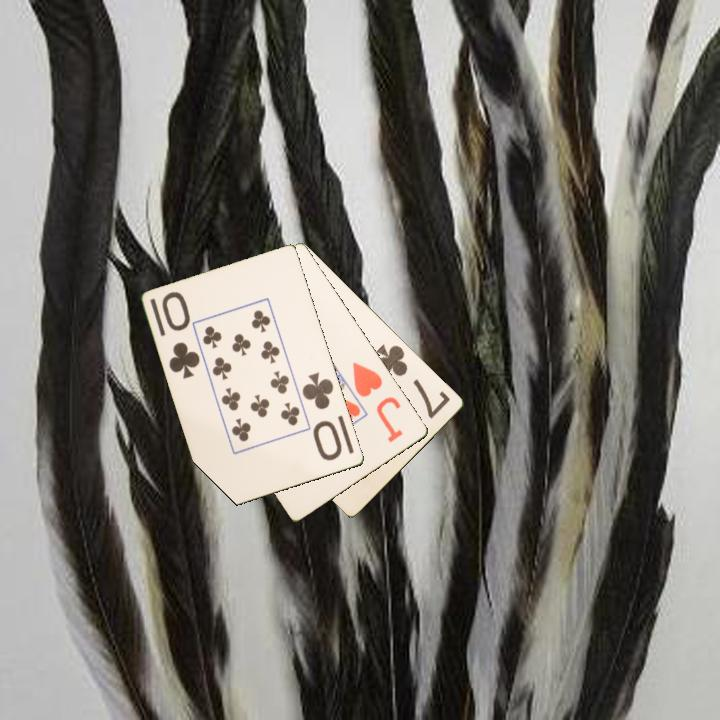10c: (299, 369, 345, 464), (158, 288, 203, 382)
7c: (373, 340, 454, 422)
Jh: (349, 358, 406, 445)
